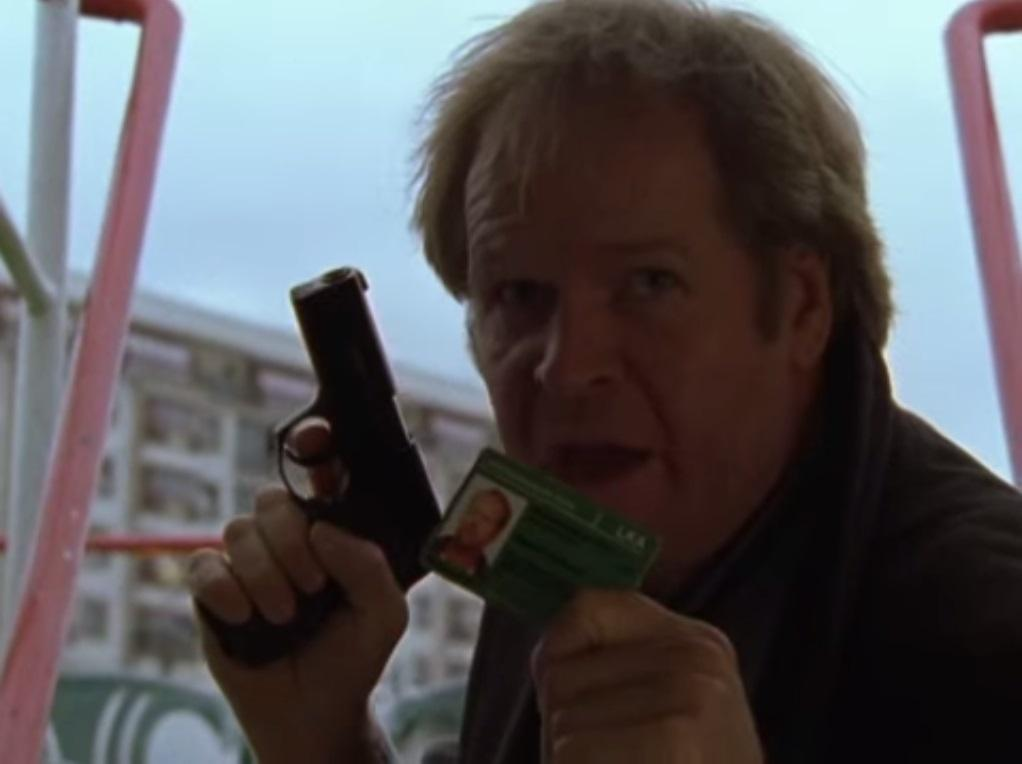gun: (194, 262, 443, 675)
